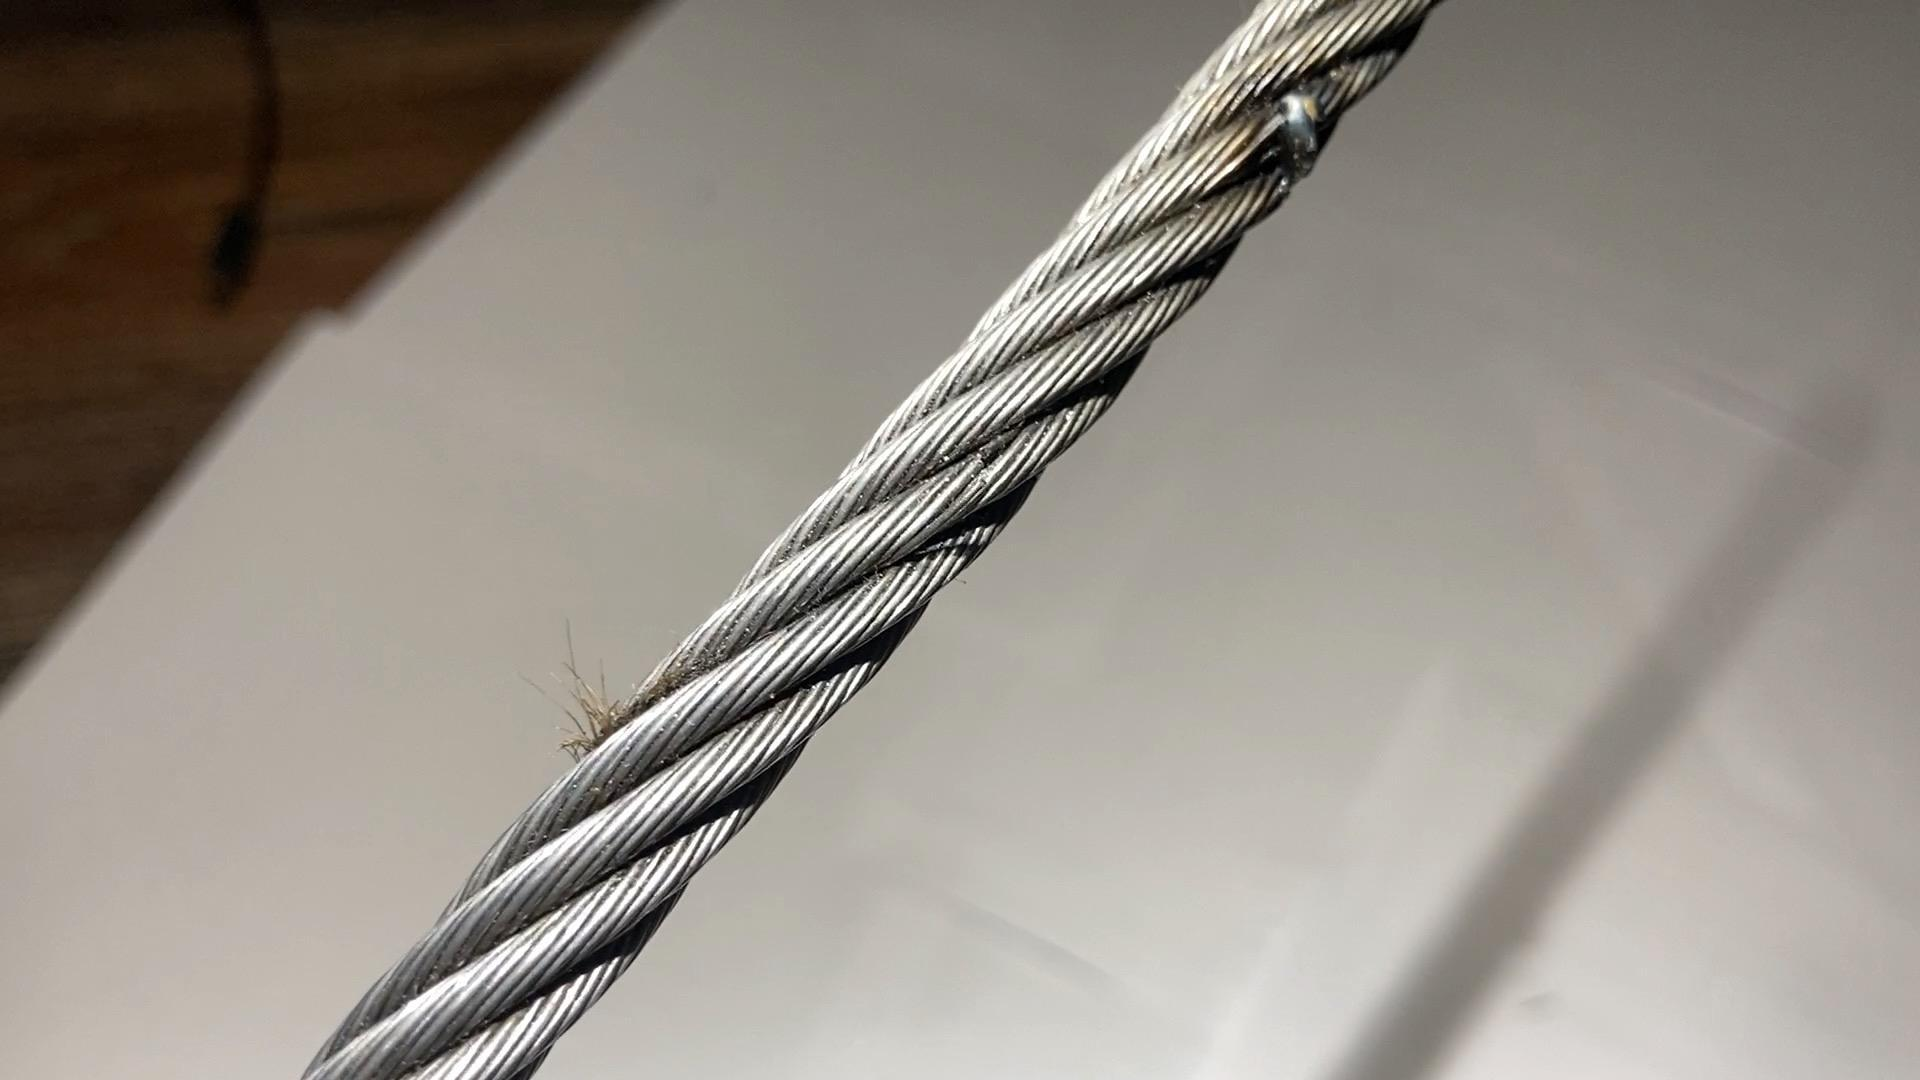thunderbolt: (1236, 73, 1344, 149)
